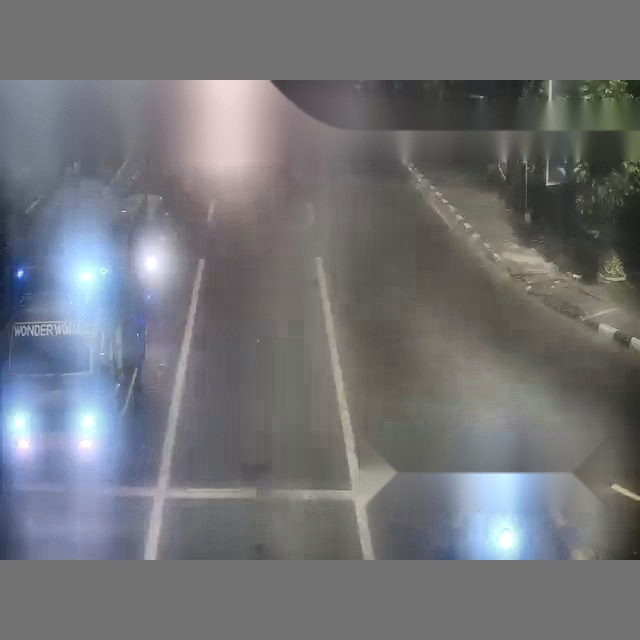Bis: (0, 180, 149, 556)
